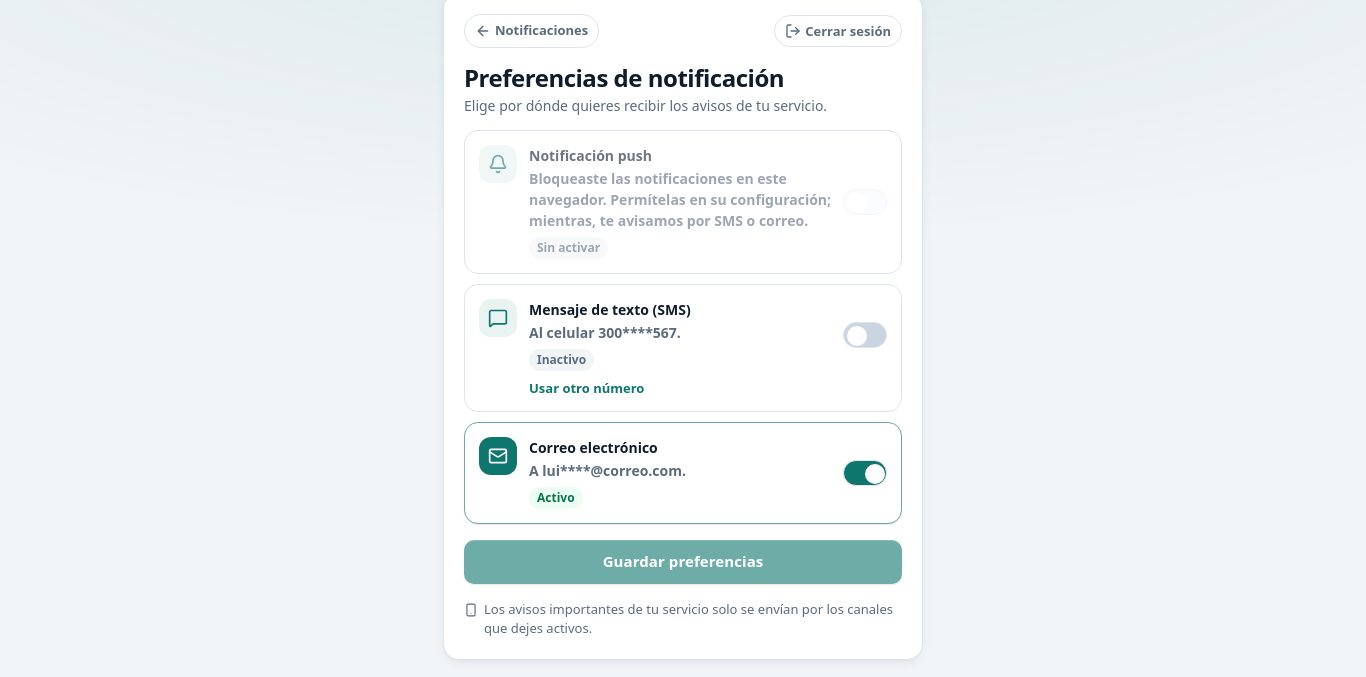
Test: HU-29 · pantalla de preferencias › CA3: al desactivar todo advierte que no recibirá avisos y solo guarda si lo confirma
Expected: the heading "Preferencias de notificación" is shown, [464, 60, 784, 94]
Click the switch labelled "Correo electrónico".
click(865, 473)  # box [843, 460, 887, 486]
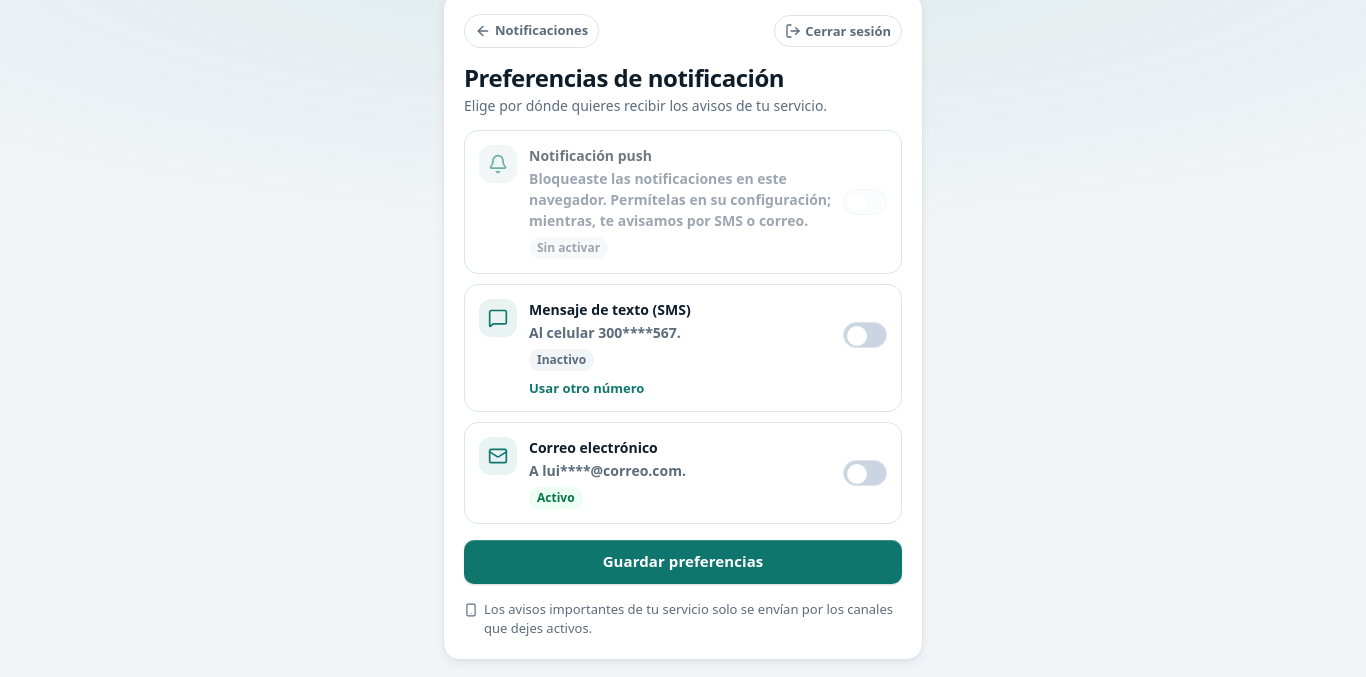
Click the button "Guardar preferencias".
click(683, 562)  # box [464, 540, 902, 584]
(page scrolled)
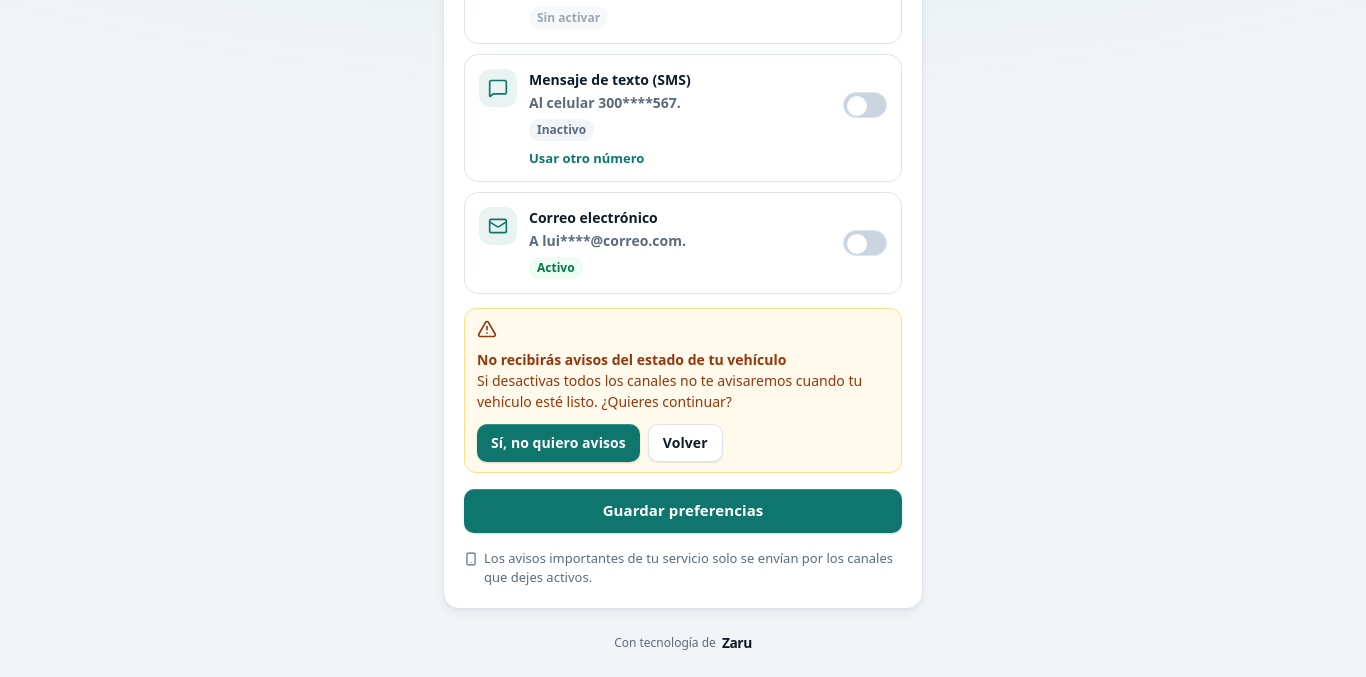
Now the dialog shows "No recibirás avisos del estado de tu vehículo", box [477, 350, 786, 369]
Click the button "Volver".
click(685, 443)  # box [648, 424, 723, 462]
(page scrolled)
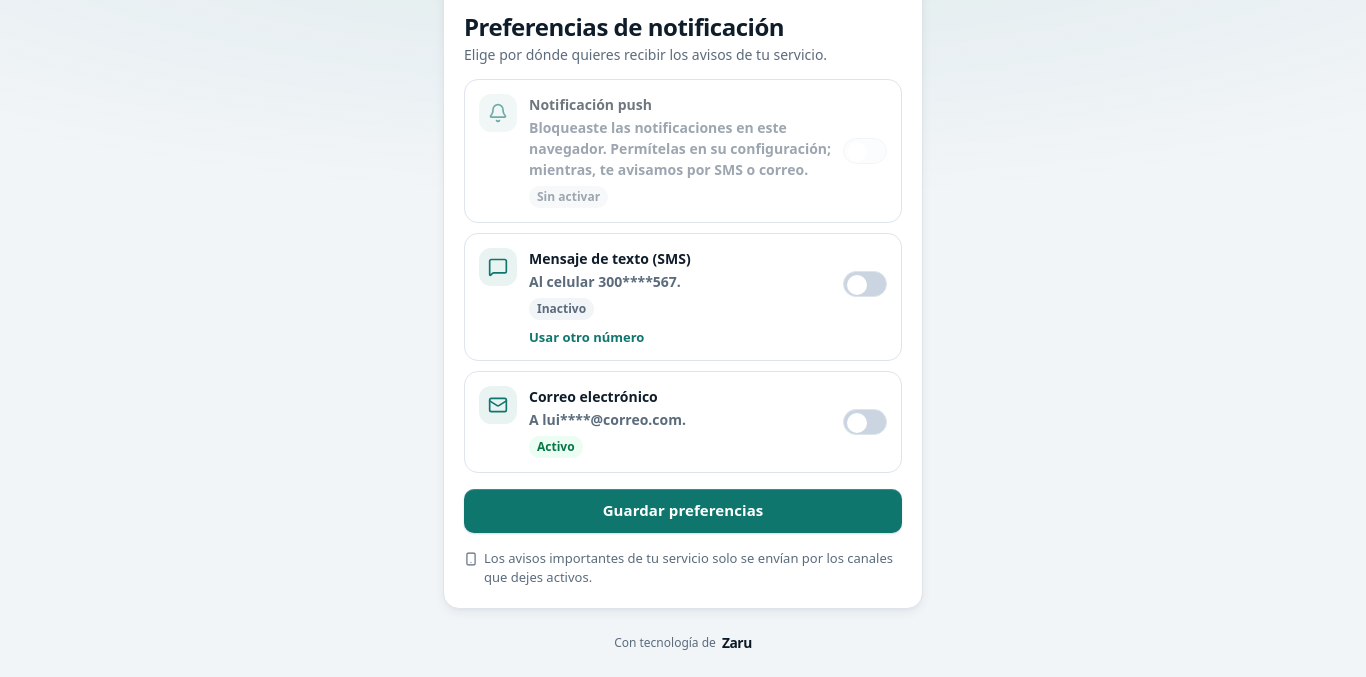
Now the dialog is gone
Click the button "Guardar preferencias".
click(683, 511)  # box [464, 489, 902, 533]
(page scrolled)
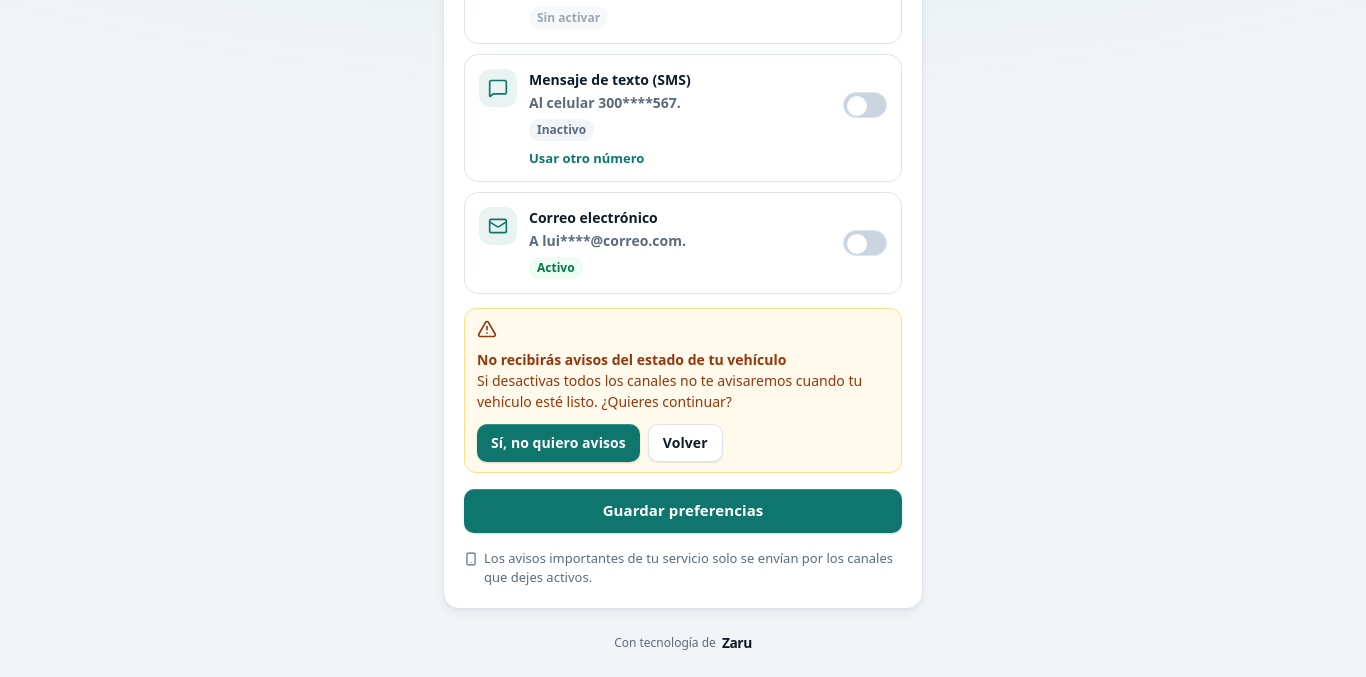
Click the button "Sí, no quiero avisos".
click(558, 443)  # box [477, 424, 640, 462]
(page scrolled)
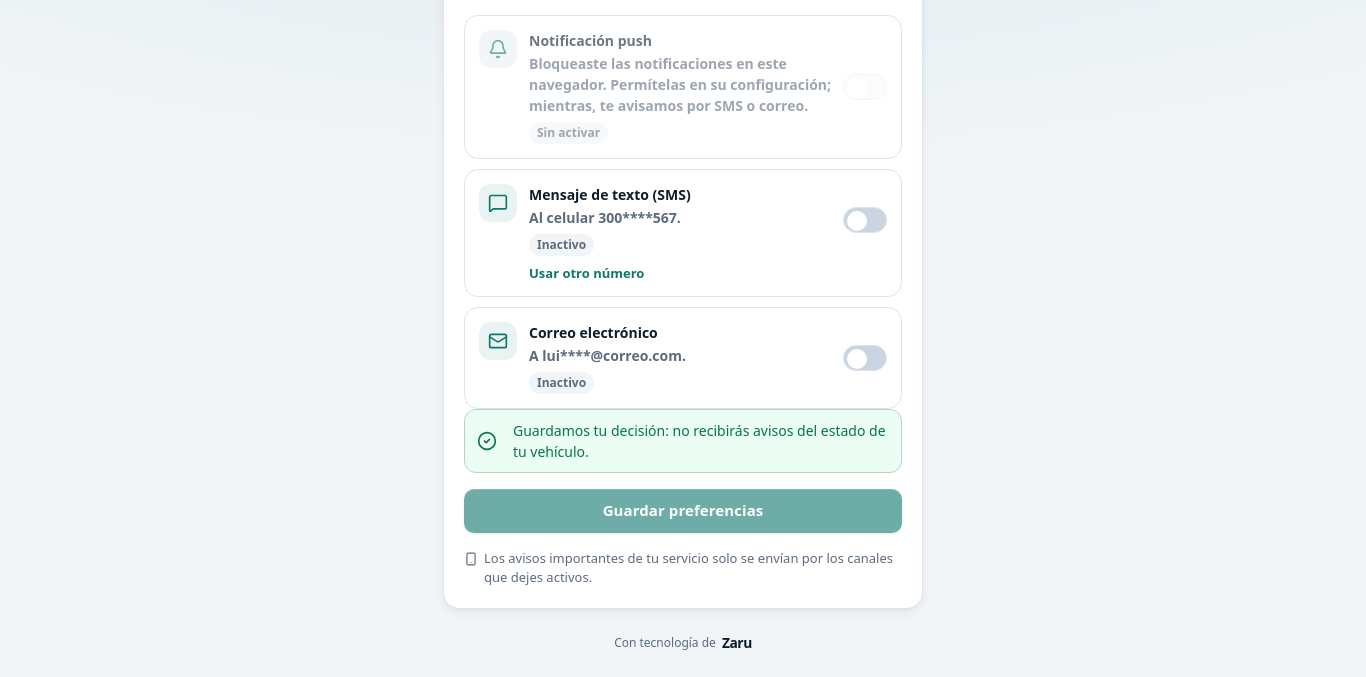
Now the text "Guardamos tu decisión: no recibirás avisos del estado de tu vehículo." is shown, box [513, 420, 889, 462]
